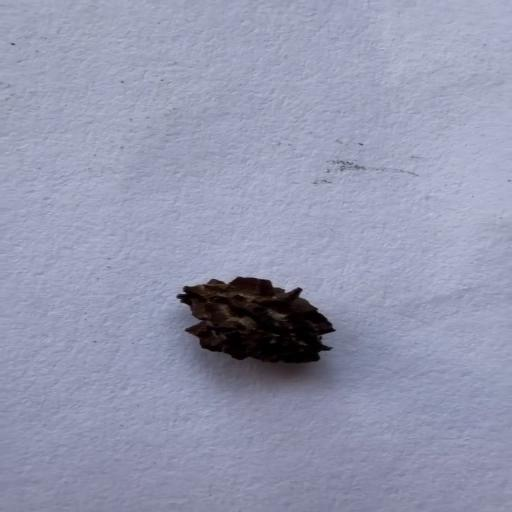papaya_seed: (170, 274, 349, 364)
